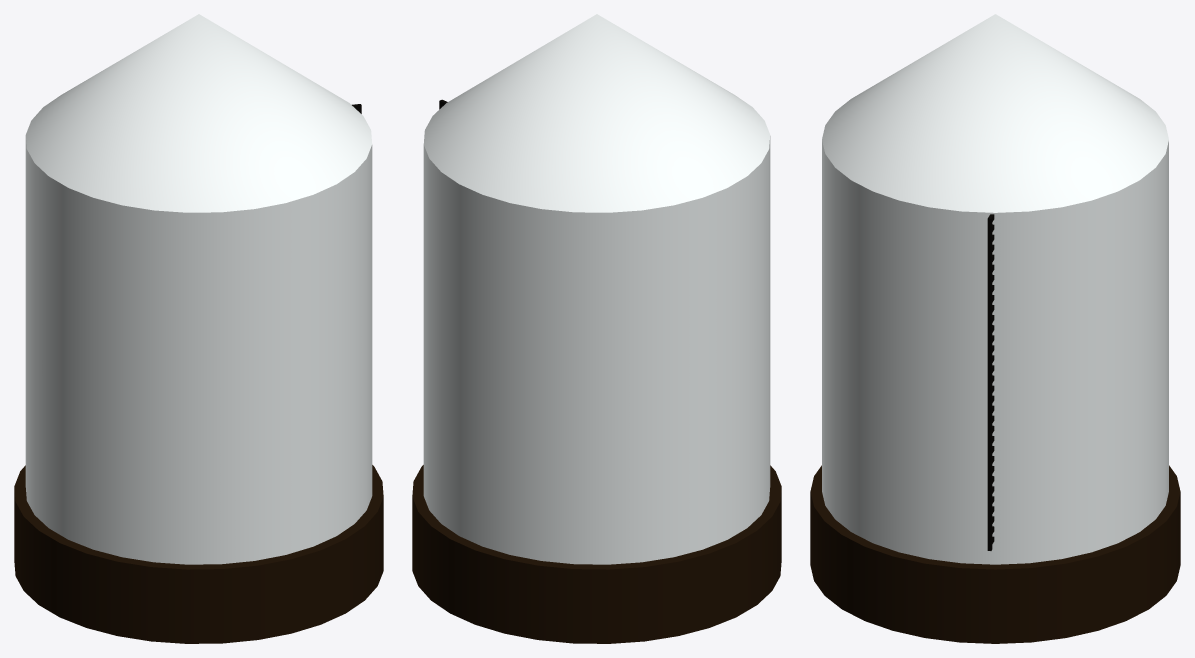
Rendered from Tank.fbx.
3 views of the same model, side by side, from view 1: azimuth 30°, elevation 25°; view 2: azimuth 150°, elevation 25°; view 3: azimuth 270°, elevation 25° (orthographic).
Parts seen in each view (by area): view 1: Tank; view 2: Tank; view 3: Tank.
Part boxes in pixels (x1=…): Tank: x1=14, y1=14, x2=383, y2=643; Tank: x1=412, y1=14, x2=781, y2=643; Tank: x1=810, y1=14, x2=1180, y2=643.
Bounding box in the file's own units: 403 × 663 × 403.
